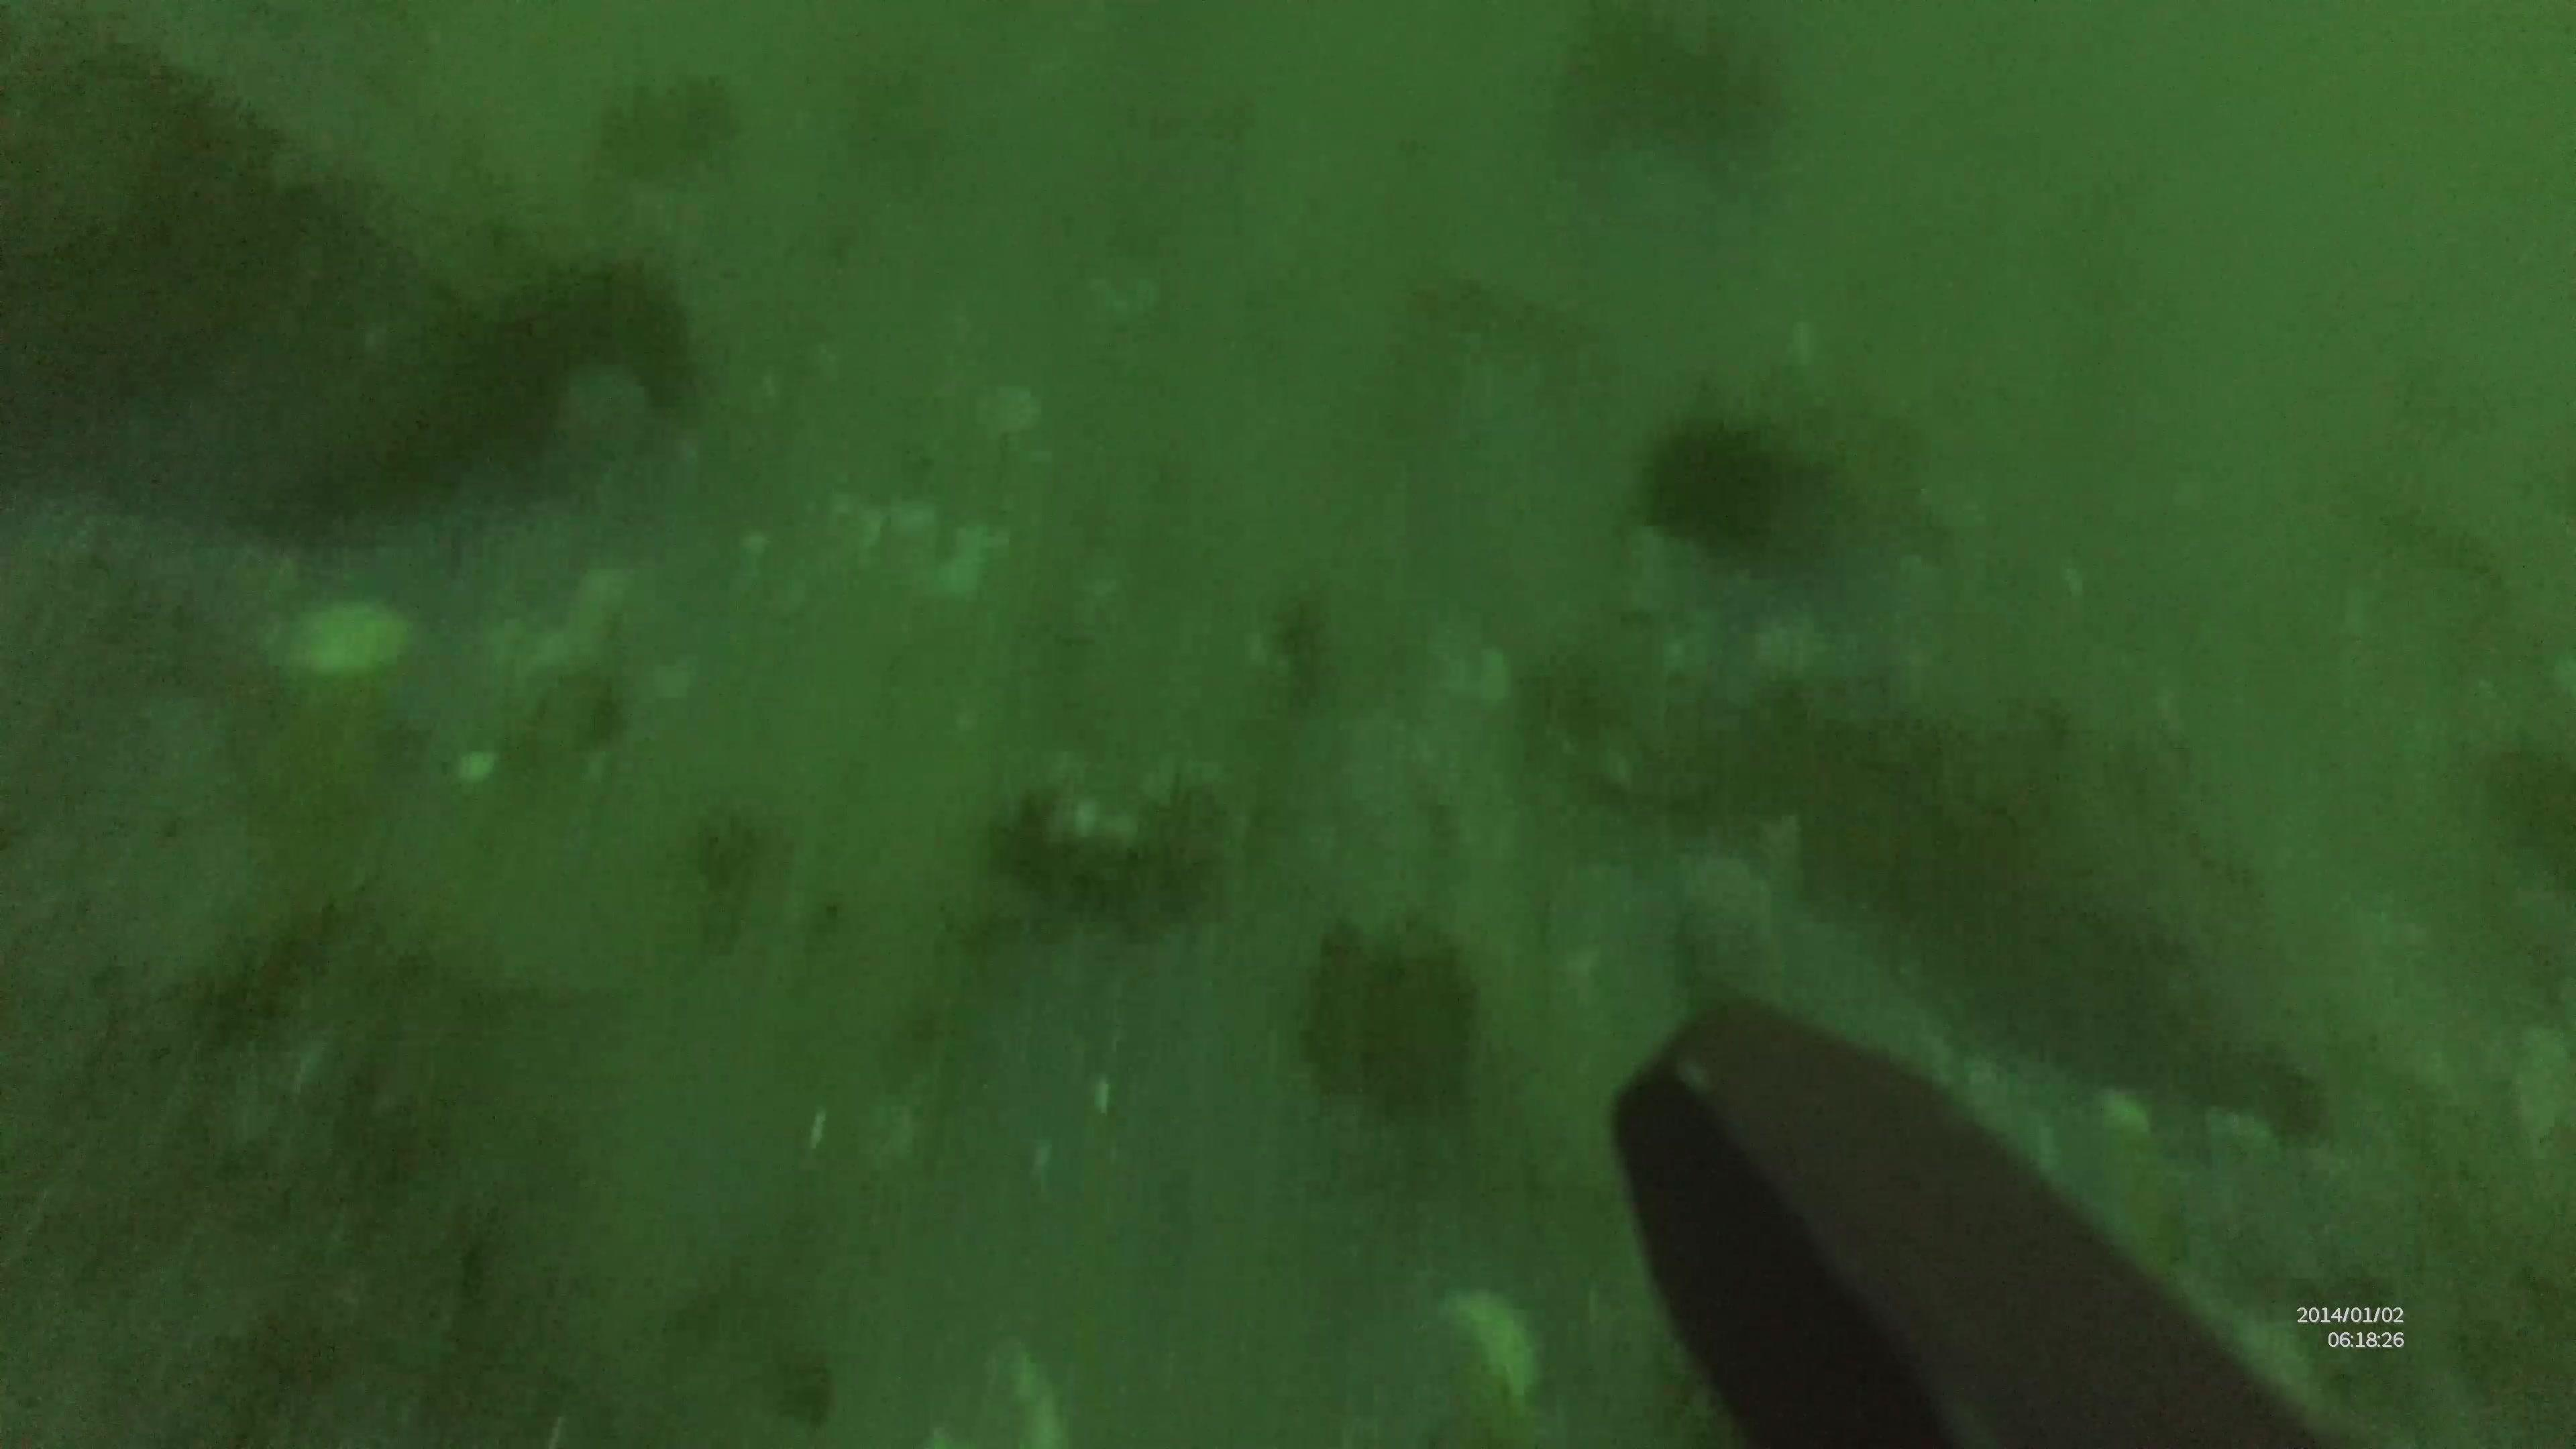echinus: (1622, 407, 1826, 552)
